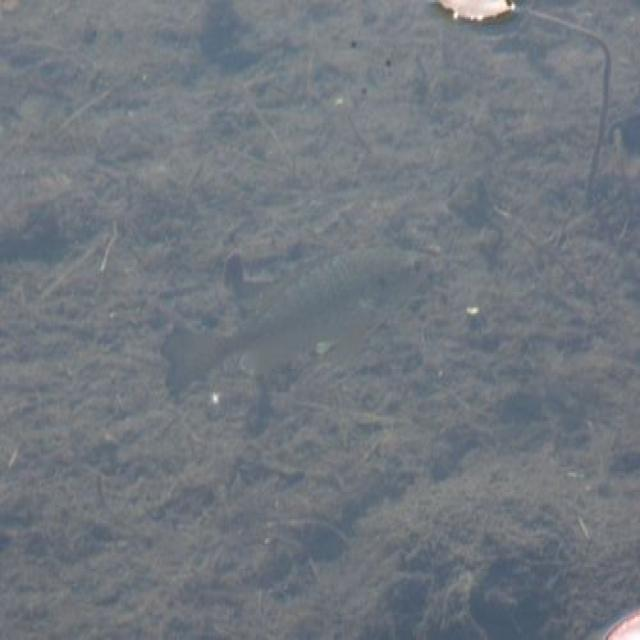Gunes Levregi: (158, 244, 446, 396)
